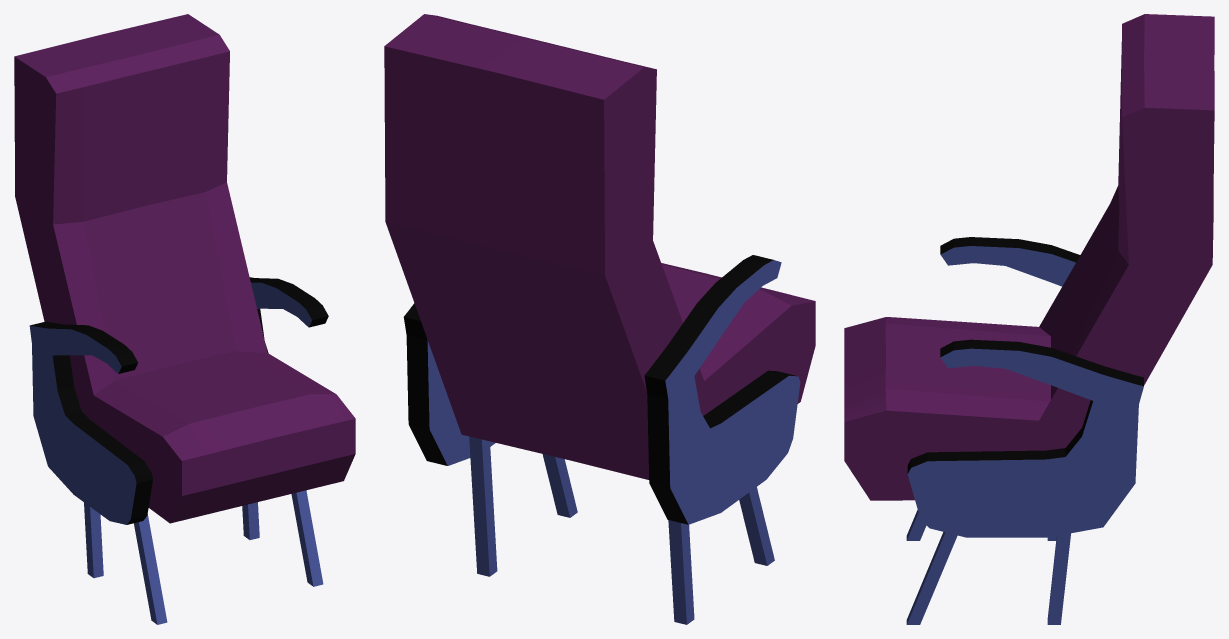
File: Bus_Chair.fbx
The picture shows the model from 3 angles, left to right: view 1: azimuth 30°, elevation 25°; view 2: azimuth 150°, elevation 25°; view 3: azimuth 270°, elevation 25°; orthographic projection. The views are drawn at different scales.
Parts seen in each view (by area): view 1: Bus_Chair; view 2: Bus_Chair; view 3: Bus_Chair.
Part boxes in pixels (left/top/right/bottom): Bus_Chair: left=14, top=14, right=355, bottom=624; Bus_Chair: left=384, top=14, right=815, bottom=624; Bus_Chair: left=844, top=14, right=1214, bottom=624.
Size of what is drawn, in the model's own units: 54.48 by 118 by 76.37.
